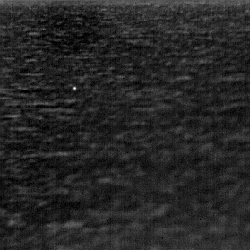dim target: (72, 86, 77, 91)
